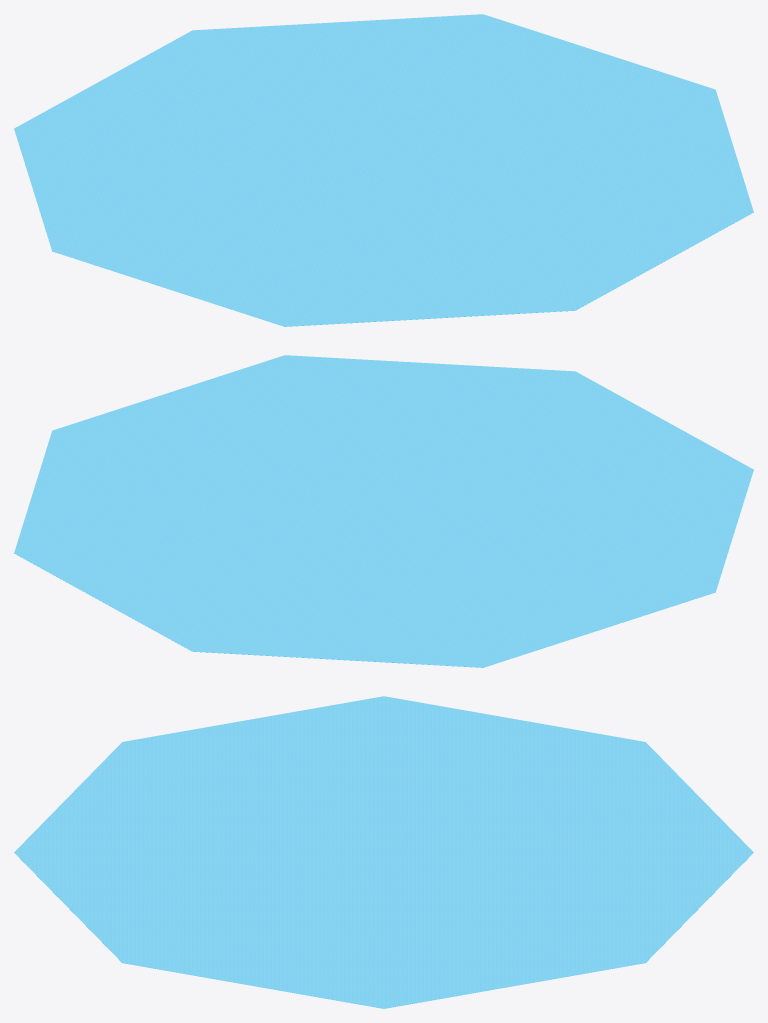
The model's file is nokonoko_course-beach_waterC.glb.
The picture shows the model from 3 angles, top to bottom: view 1: azimuth 30°, elevation 25°; view 2: azimuth 150°, elevation 25°; view 3: azimuth 270°, elevation 25°; orthographic projection. The views are drawn at different scales.
Parts seen in each view (by area): view 1: beach_waterC; view 2: beach_waterC; view 3: beach_waterC.
Boxes of the visible parts, left/top/right/bottom form: beach_waterC: left=14, top=14, right=753, bottom=326; beach_waterC: left=14, top=355, right=753, bottom=667; beach_waterC: left=14, top=696, right=753, bottom=1008.
Bounding box in the file's own units: 862 × 0.125 × 862.
2 materials, 2 textured.
